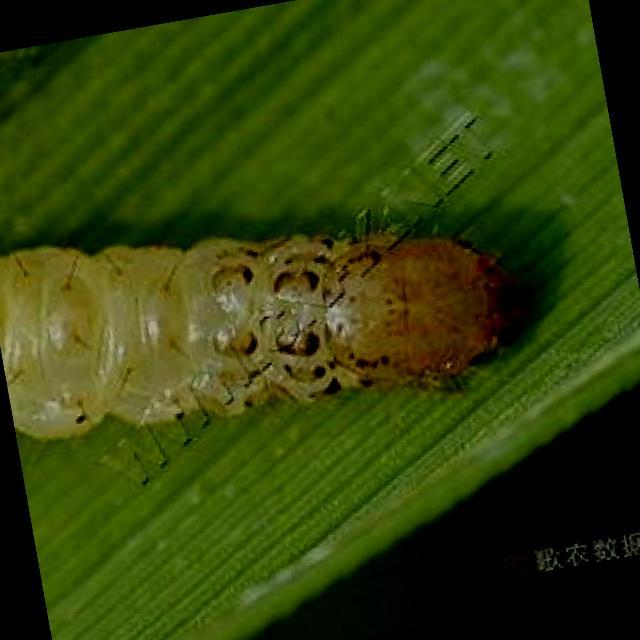leaf folder: (0, 229, 522, 438)
